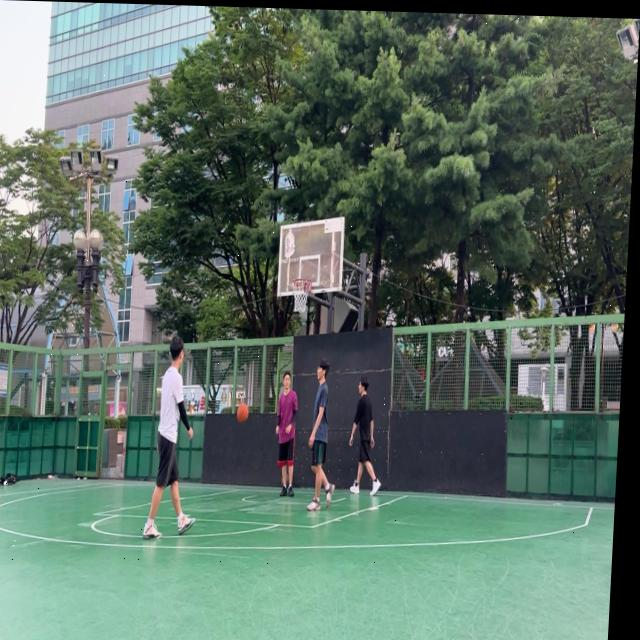basketball: (236, 403, 249, 423)
hoop: (290, 278, 312, 313)
